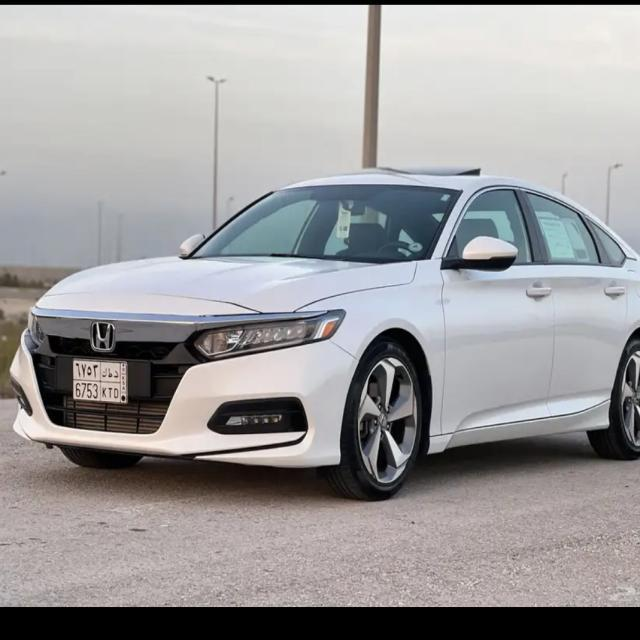license_plate: (73, 357, 126, 403)
